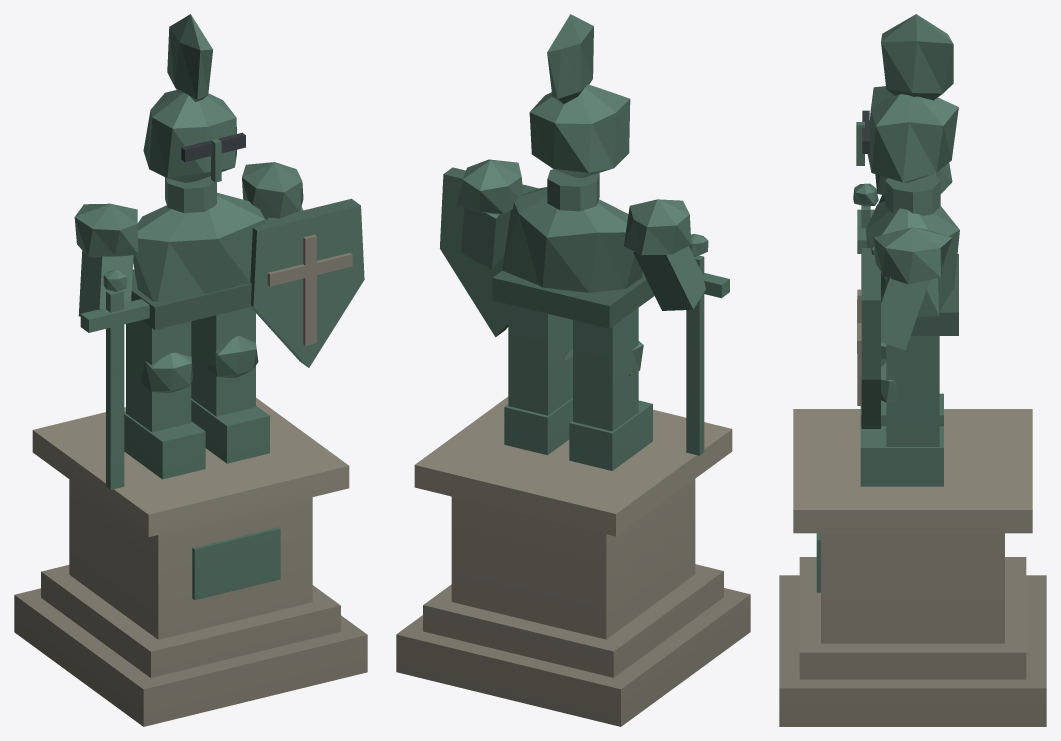
File: town_statue.glb
3 renders of one model, left to right at view 1: azimuth 30°, elevation 25°; view 2: azimuth 150°, elevation 25°; view 3: azimuth 270°, elevation 25°, orthographic. The views are drawn at different scales.
Visible parts, largest first — view 1: town_statue; view 2: town_statue; view 3: town_statue.
Part boxes in pixels (x1,y1,x2,y2): town_statue: [14, 14, 367, 726]; town_statue: [396, 14, 750, 726]; town_statue: [779, 14, 1046, 726].
Bounding box in the file's own units: 1.55 × 3.39 × 1.25.
